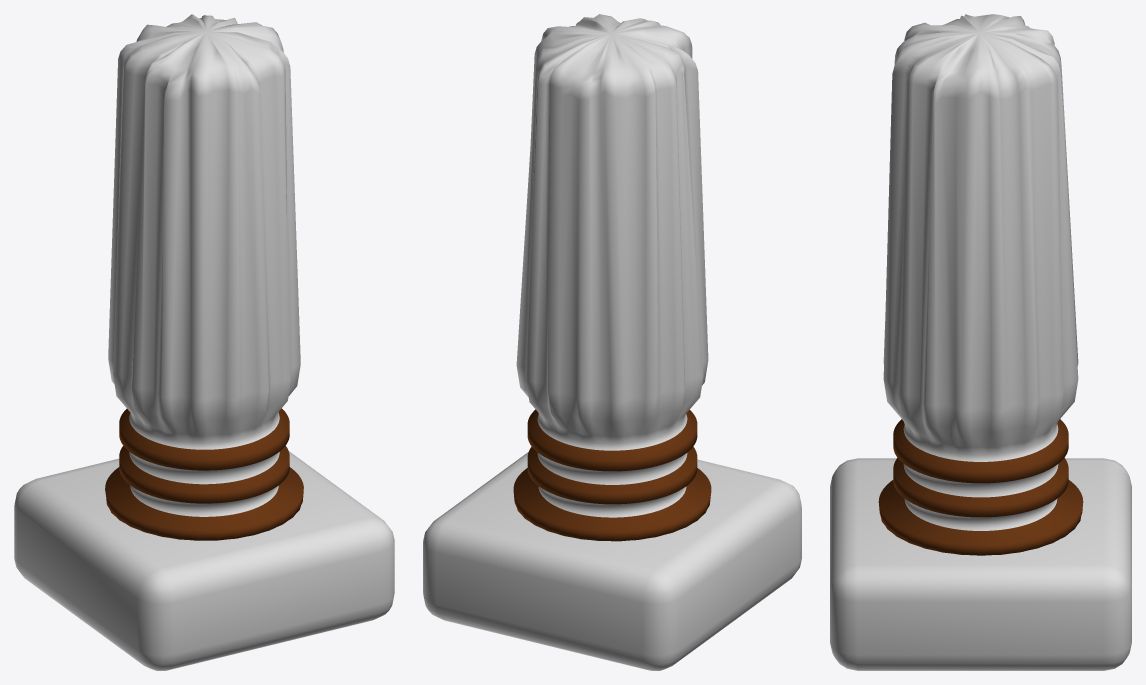
The model's file is column_broken_2.fbx.
The picture shows the model from 3 angles, left to right: view 1: azimuth 30°, elevation 25°; view 2: azimuth 150°, elevation 25°; view 3: azimuth 270°, elevation 25°; orthographic projection. The views are drawn at different scales.
Parts seen in each view (by area): view 1: column_broken 1; view 2: column_broken 1; view 3: column_broken 1.
Boxes of the visible parts, x1=… form: column_broken 1: x1=14, y1=14, x2=394, y2=670; column_broken 1: x1=423, y1=14, x2=801, y2=670; column_broken 1: x1=830, y1=14, x2=1131, y2=670.
Size of the model in its own units: 321 by 686 by 321.
